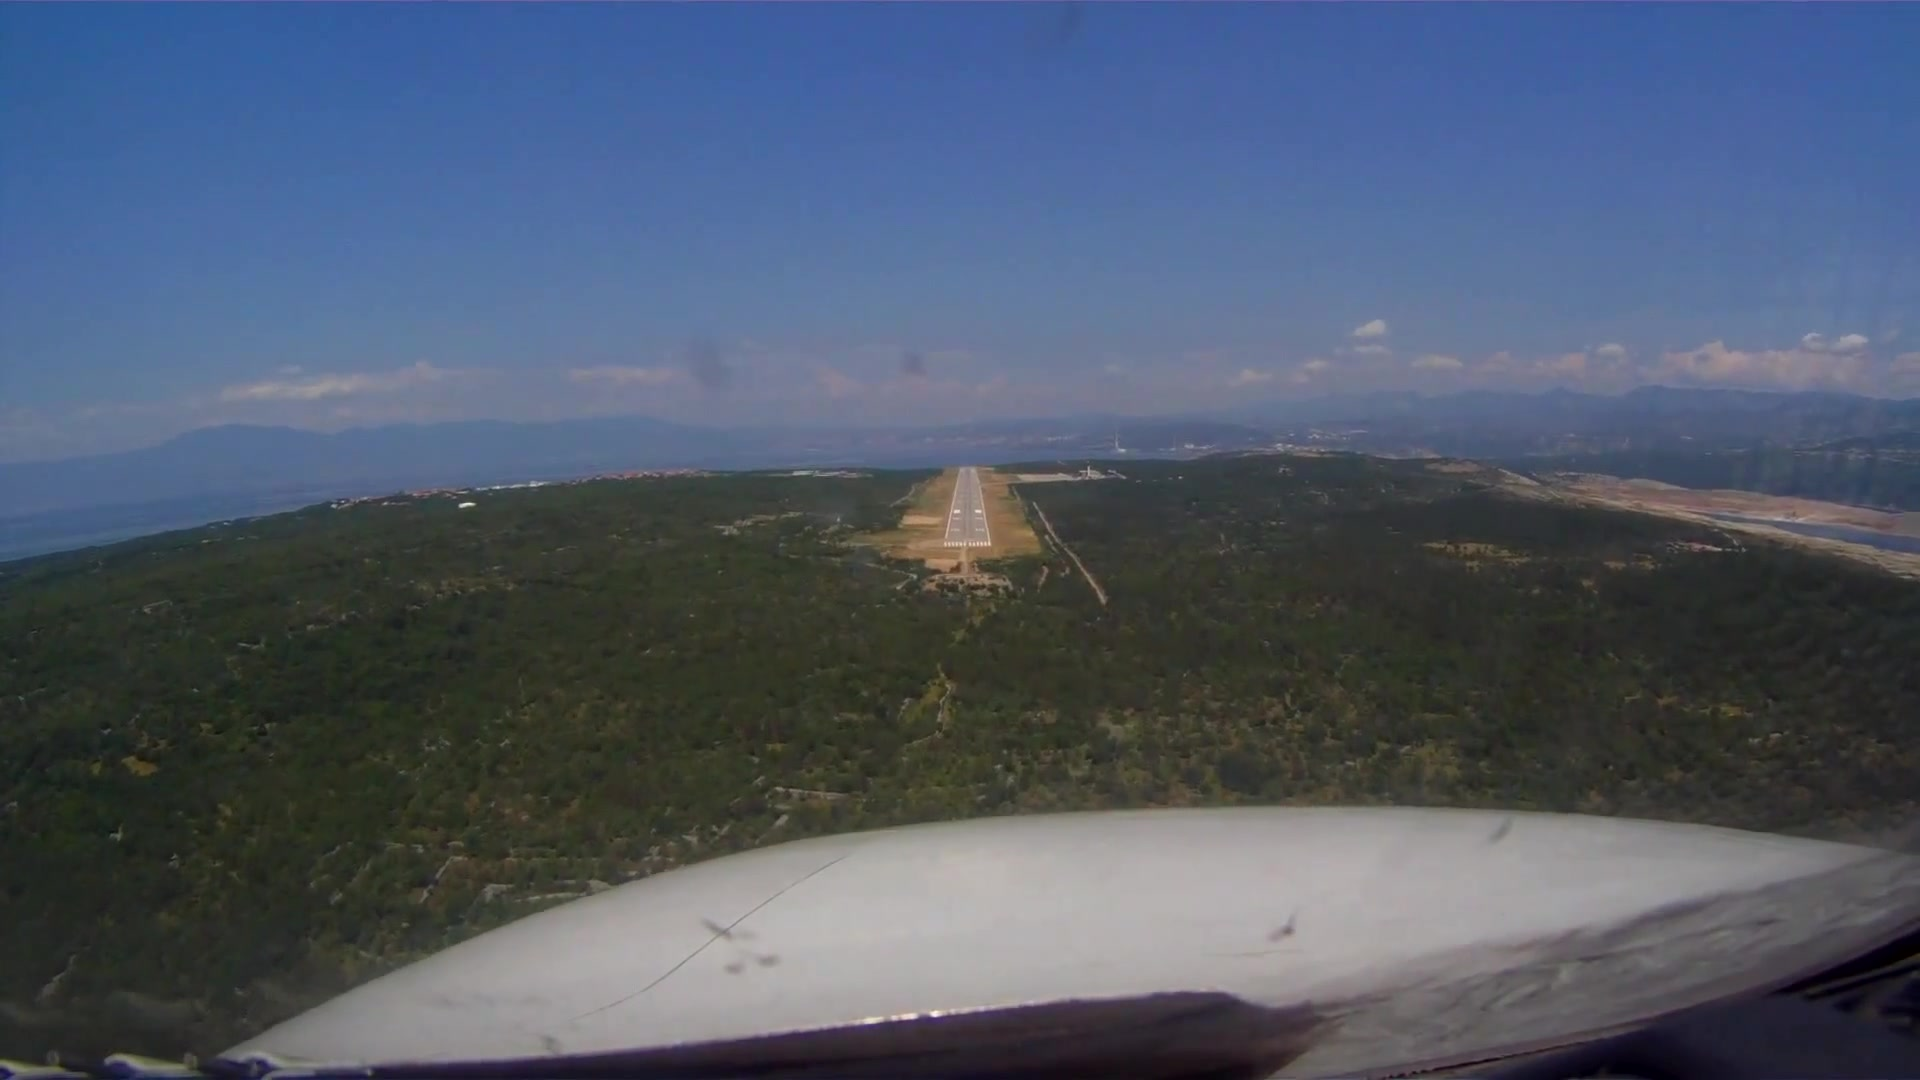entrance: (945, 541, 992, 549)
runway: (942, 465, 992, 550)
